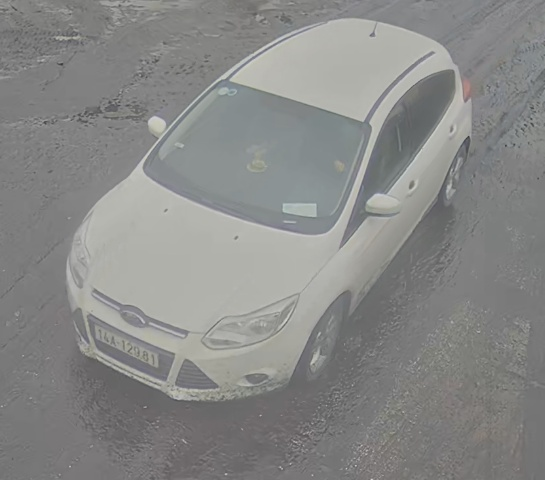vehicle plate: (91, 318, 161, 372)
